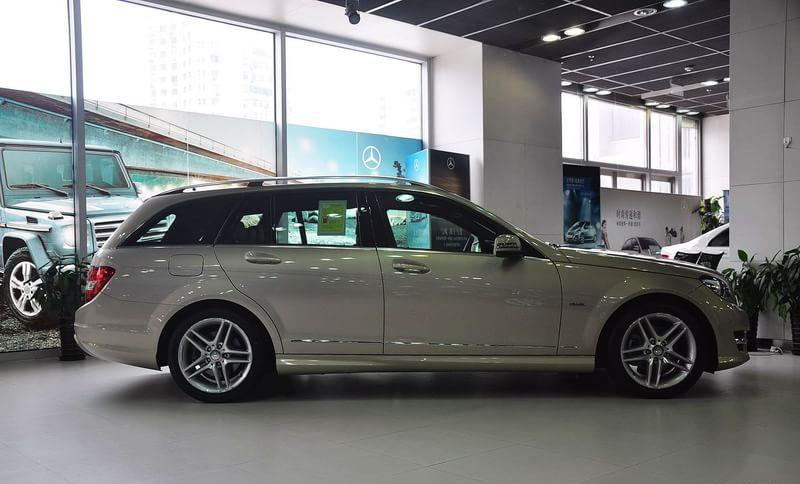Wagon: (73, 173, 751, 404)
